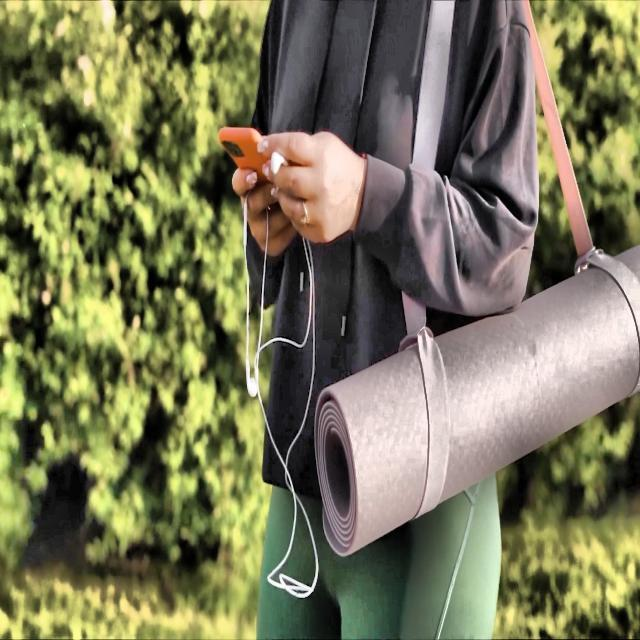Phone: (216, 122, 286, 180)
